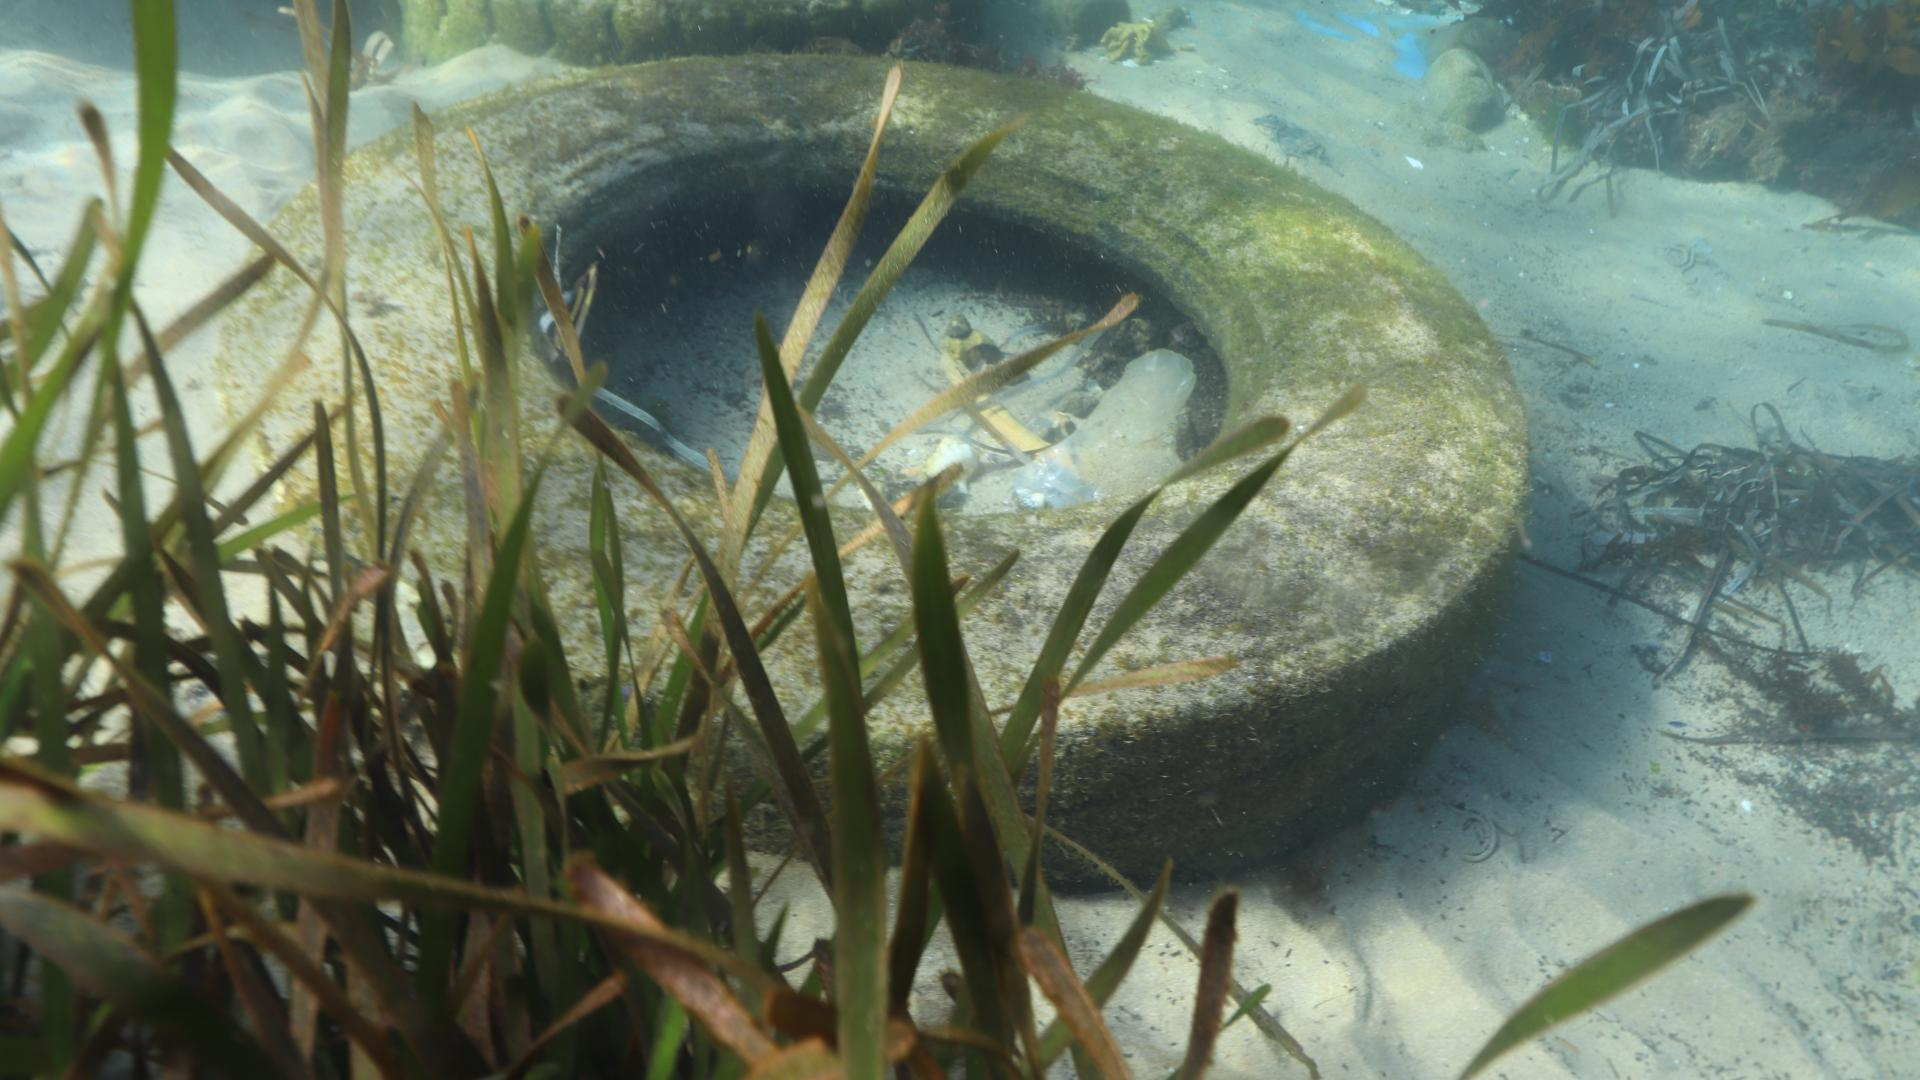tire: (211, 50, 1524, 895)
